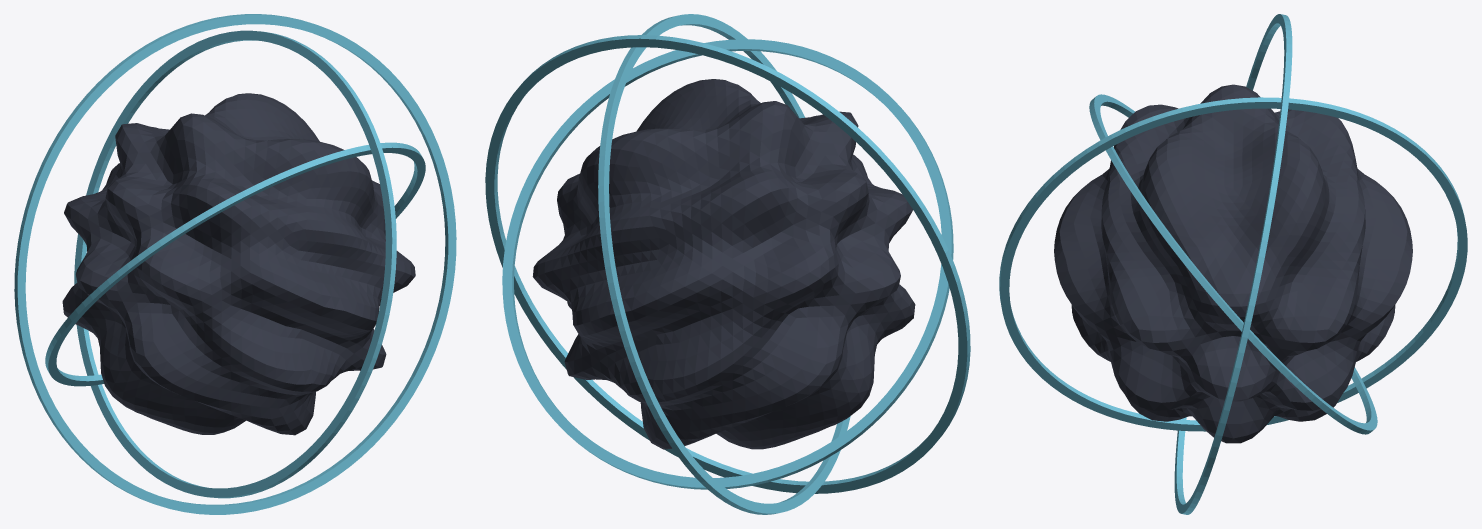
The model's file is gpu-artifact.glb.
3 views of the same model, side by side, from view 1: azimuth 30°, elevation 25°; view 2: azimuth 150°, elevation 25°; view 3: azimuth 270°, elevation 25° (orthographic). The views are drawn at different scales.
Parts seen in each view (by area): view 1: datamosh-glitch-studio_obsidian_core, datamosh-glitch-studio_orbital_ring_2, datamosh-glitch-studio_orbital_ring_1, datamosh-glitch-studio_orbital_ring_0; view 2: datamosh-glitch-studio_obsidian_core, datamosh-glitch-studio_orbital_ring_2, datamosh-glitch-studio_orbital_ring_0, datamosh-glitch-studio_orbital_ring_1; view 3: datamosh-glitch-studio_obsidian_core, datamosh-glitch-studio_orbital_ring_1, datamosh-glitch-studio_orbital_ring_2, datamosh-glitch-studio_orbital_ring_0.
Part boxes in pixels (x1,y1,x2,y2): datamosh-glitch-studio_obsidian_core: (62,93,415,435); datamosh-glitch-studio_orbital_ring_2: (14,14,456,514); datamosh-glitch-studio_orbital_ring_1: (74,30,396,498); datamosh-glitch-studio_orbital_ring_0: (45,142,425,386); datamosh-glitch-studio_obsidian_core: (532,79,915,449); datamosh-glitch-studio_orbital_ring_2: (485,35,970,493); datamosh-glitch-studio_orbital_ring_0: (502,39,953,489); datamosh-glitch-studio_orbital_ring_1: (598,14,850,514); datamosh-glitch-studio_obsidian_core: (1054,84,1412,443); datamosh-glitch-studio_orbital_ring_1: (999,97,1467,431); datamosh-glitch-studio_orbital_ring_2: (1174,14,1292,514); datamosh-glitch-studio_orbital_ring_0: (1089,94,1377,434).
Size of the model in its own units: 3.24 by 3.17 by 2.98.
